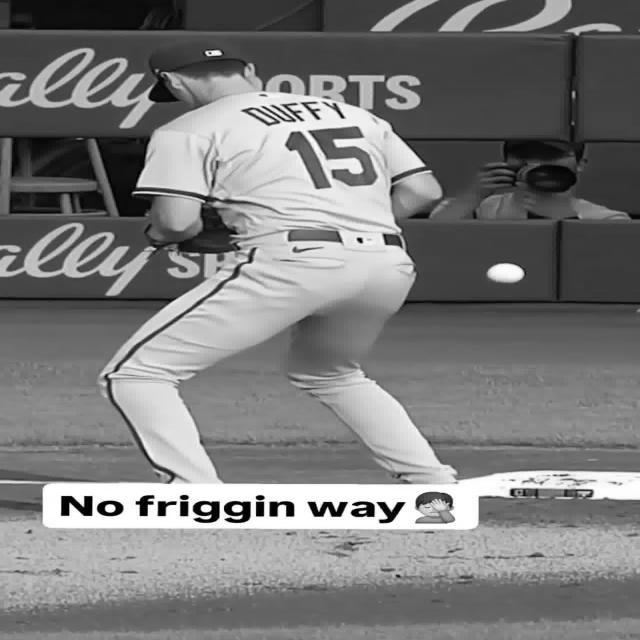base: (458, 470, 640, 500)
baseball: (487, 262, 525, 284)
baseball_glove: (178, 205, 238, 254)
